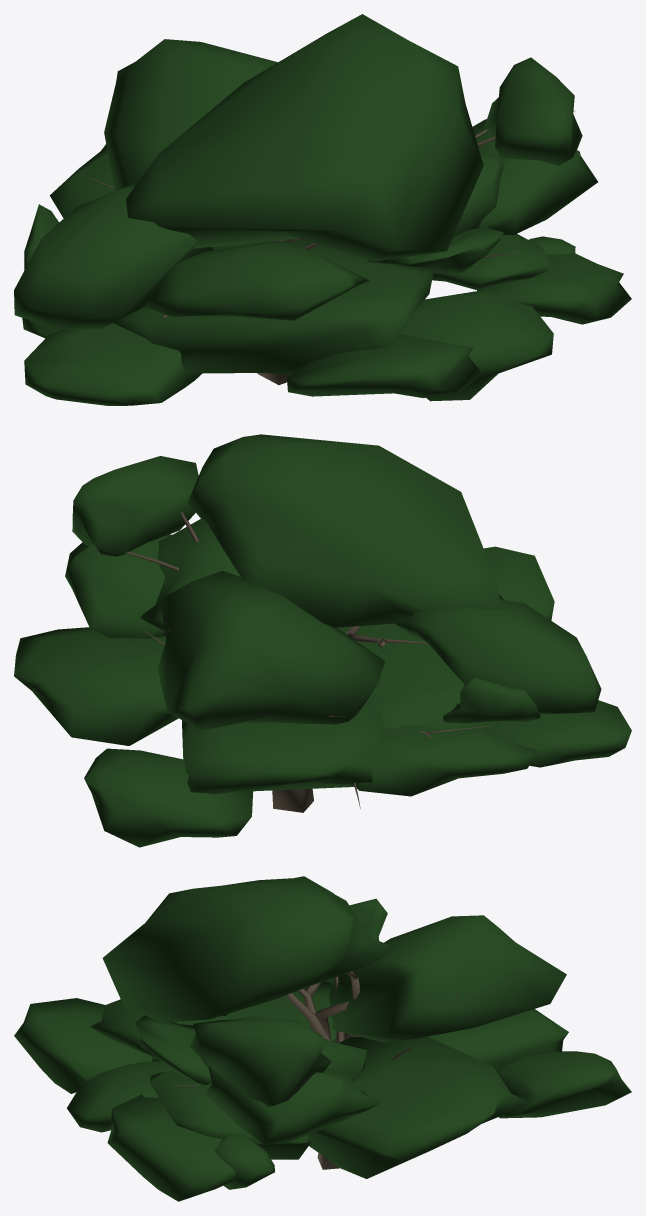
Rendered from VyazTreeGO1.fbx.
3 renders of one model, top to bottom at view 1: azimuth 30°, elevation 25°; view 2: azimuth 150°, elevation 25°; view 3: azimuth 270°, elevation 25°, orthographic. The views are drawn at different scales.
Parts seen in each view (by area): view 1: Vyaz tree foliage; view 2: Vyaz tree foliage, Vyaz tree trunk, Vyaz tree stump; view 3: Vyaz tree foliage, Vyaz tree trunk.
Part boxes in pixels (<box>): Vyaz tree foliage: <box>14,14,631,405</box>; Vyaz tree foliage: <box>14,434,631,847</box>; Vyaz tree trunk: <box>126,512,496,808</box>; Vyaz tree stump: <box>272,788,313,812</box>; Vyaz tree foliage: <box>14,876,631,1201</box>; Vyaz tree trunk: <box>166,971,458,1086</box>.
Size of the model in its own units: 732 by 418 by 799.
